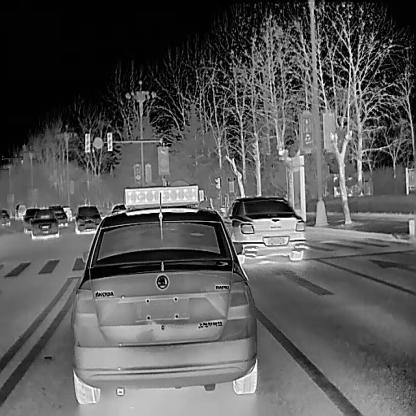car: (72, 182, 257, 404), (222, 195, 307, 263), (30, 207, 59, 239), (74, 205, 102, 233), (22, 207, 39, 234), (48, 205, 68, 226), (14, 203, 26, 219), (61, 205, 71, 221), (0, 209, 10, 224)
